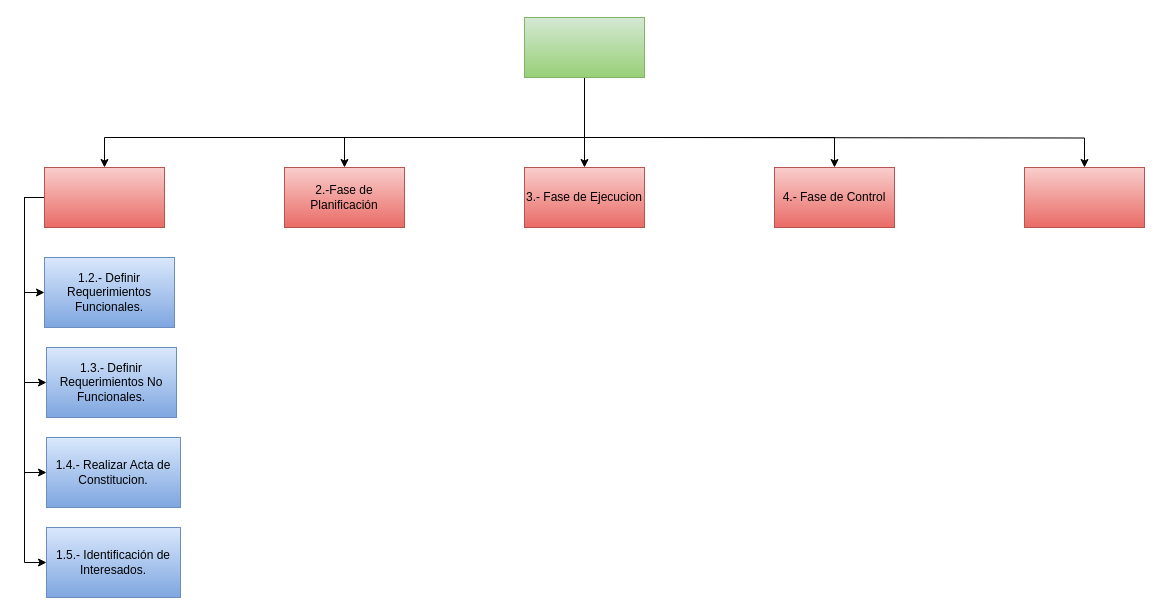
Image size: 1162x615. Some labels were removed from this diagram. Here are the shapes that lost their labels. From the top down, the centre of each, then its label:
At point 584,47: "Proyecto de Chatbot".
At point 104,197: "1.- Fase de Inicio".
At point 1084,197: "5.- Fase de Cierre".
